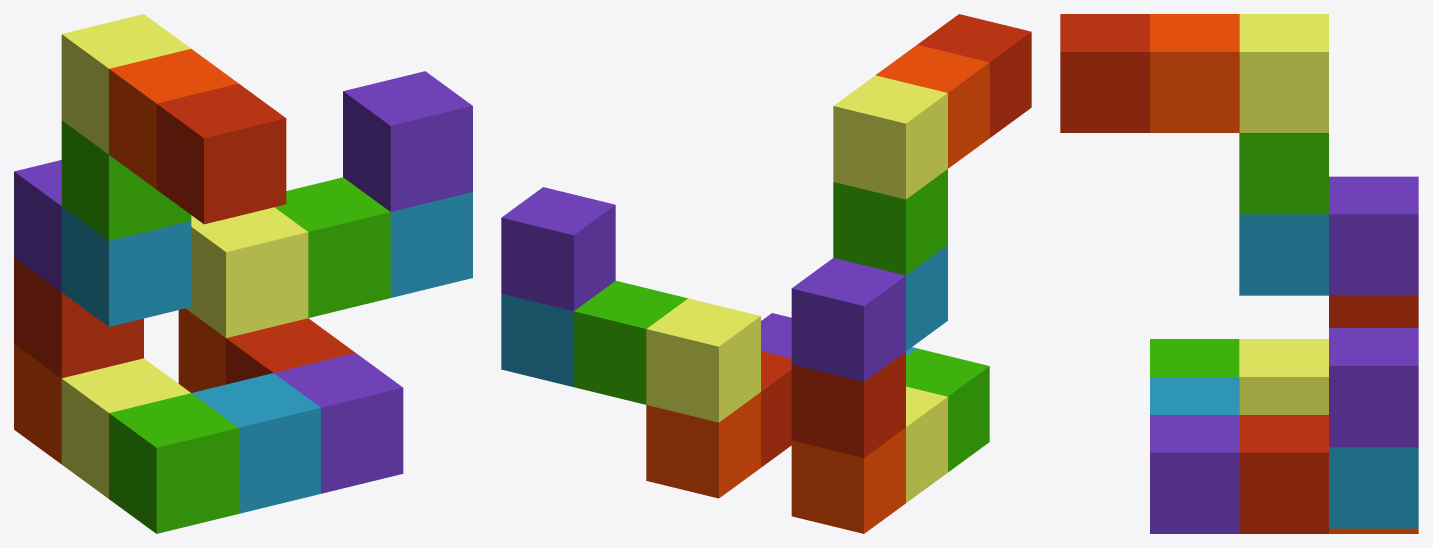
3 views of the same model, side by side, from view 1: azimuth 30°, elevation 25°; view 2: azimuth 150°, elevation 25°; view 3: azimuth 270°, elevation 25° (orthographic). The views are drawn at different scales.
Parts seen in each view (by area): view 1: Null, Null_2, Null_4, Null_1, Null_3; view 2: Null, Null_2, Null_4, Null_3; view 3: Null, Null_2, Null_4, Null_1.
Boxes of the visible parts, x1=… form: Null: x1=14, y1=14, x2=286, y2=533; Null_2: x1=178, y1=207, x2=403, y2=493; Null_4: x1=343, y1=71, x2=472, y2=297; Null_1: x1=191, y1=373, x2=320, y2=513; Null_3: x1=275, y1=177, x2=390, y2=317; Null: x1=791, y1=14, x2=1031, y2=533; Null_2: x1=646, y1=298, x2=791, y2=498; Null_4: x1=501, y1=187, x2=615, y2=386; Null_3: x1=574, y1=281, x2=687, y2=404; Null: x1=1060, y1=14, x2=1418, y2=414; Null_2: x1=1150, y1=415, x2=1418, y2=533; Null_4: x1=1329, y1=328, x2=1418, y2=528; Null_1: x1=1150, y1=377, x2=1239, y2=414.
Size of the model in its own units: 1000 by 1000 by 800.
